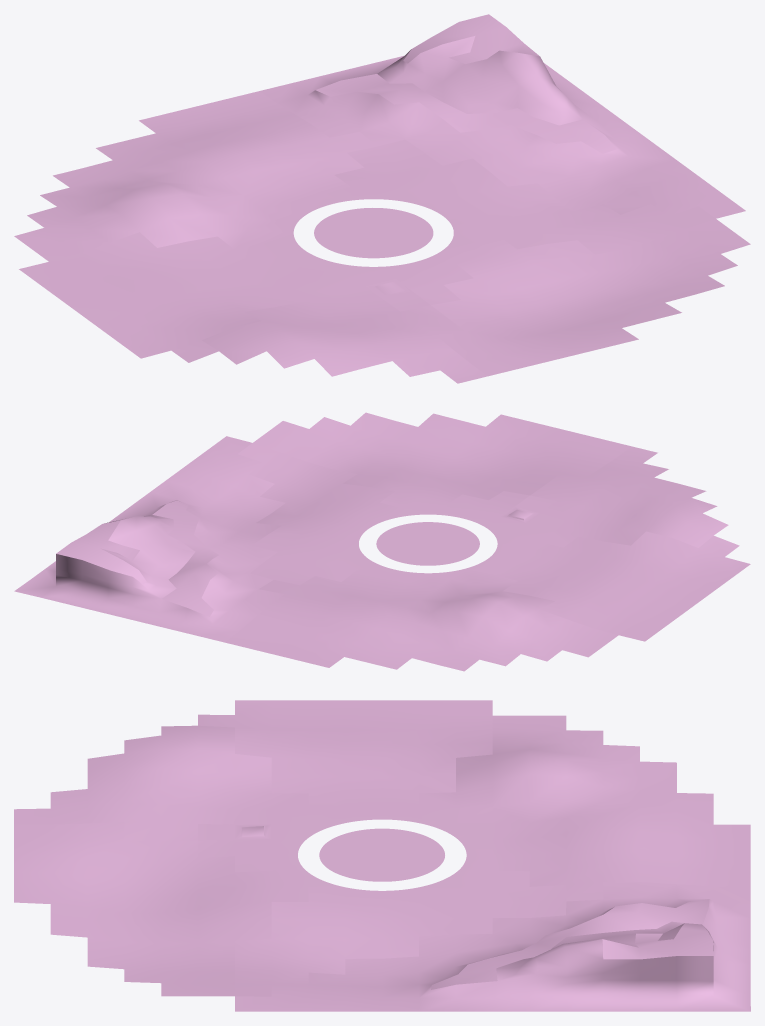
The model's file is DesertForMultimesh.glb.
3 views of the same model, one above another, from view 1: azimuth 30°, elevation 25°; view 2: azimuth 150°, elevation 25°; view 3: azimuth 270°, elevation 25° (orthographic). The views are drawn at different scales.
Parts seen in each view (by area): view 1: grass-4, area-1.003, grass-7, grass-5, grass-6, grass-3, grass-8, grass-2, area-1.008, grass-1; view 2: grass-4, area-1.003, grass-7, grass-5, grass-6, grass-3, grass-8, grass-2, area-1.008, grass-1; view 3: grass-4, area-1.003, grass-7, grass-5, grass-6, grass-3, grass-8, grass-2, area-1.008, grass-1.
Part boxes in pixels (<box>): grass-4: <box>14,91,376,261</box>; area-1.003: <box>260,36,745,218</box>; grass-7: <box>431,219,750,376</box>; grass-5: <box>19,232,331,362</box>; grass-6: <box>202,257,487,383</box>; grass-3: <box>334,139,715,254</box>; grass-8: <box>315,14,616,153</box>; grass-2: <box>315,208,432,257</box>; area-1.008: <box>366,279,430,311</box>; grass-1: <box>292,198,454,267</box>; grass-4: <box>224,565,618,671</box>; area-1.003: <box>14,436,285,642</box>; grass-7: <box>253,412,631,514</box>; grass-5: <box>465,531,750,641</box>; grass-6: <box>447,446,728,547</box>; grass-3: <box>238,443,420,584</box>; grass-8: <box>56,500,218,616</box>; grass-2: <box>377,522,478,565</box>; area-1.008: <box>500,495,555,523</box>; grass-1: <box>357,514,498,573</box>; grass-4: <box>419,715,750,901</box>; area-1.003: <box>235,882,750,1011</box>; grass-7: <box>14,822,312,996</box>; grass-5: <box>198,700,492,823</box>; grass-6: <box>14,725,340,872</box>; grass-3: <box>235,864,566,996</box>; grass-8: <box>431,899,713,989</box>; grass-2: <box>320,829,443,881</box>; area-1.008: <box>198,824,271,840</box>; grass-1: <box>296,819,467,891</box>.
Bounding box in the file's own units: 500 × 41.87 × 500.
